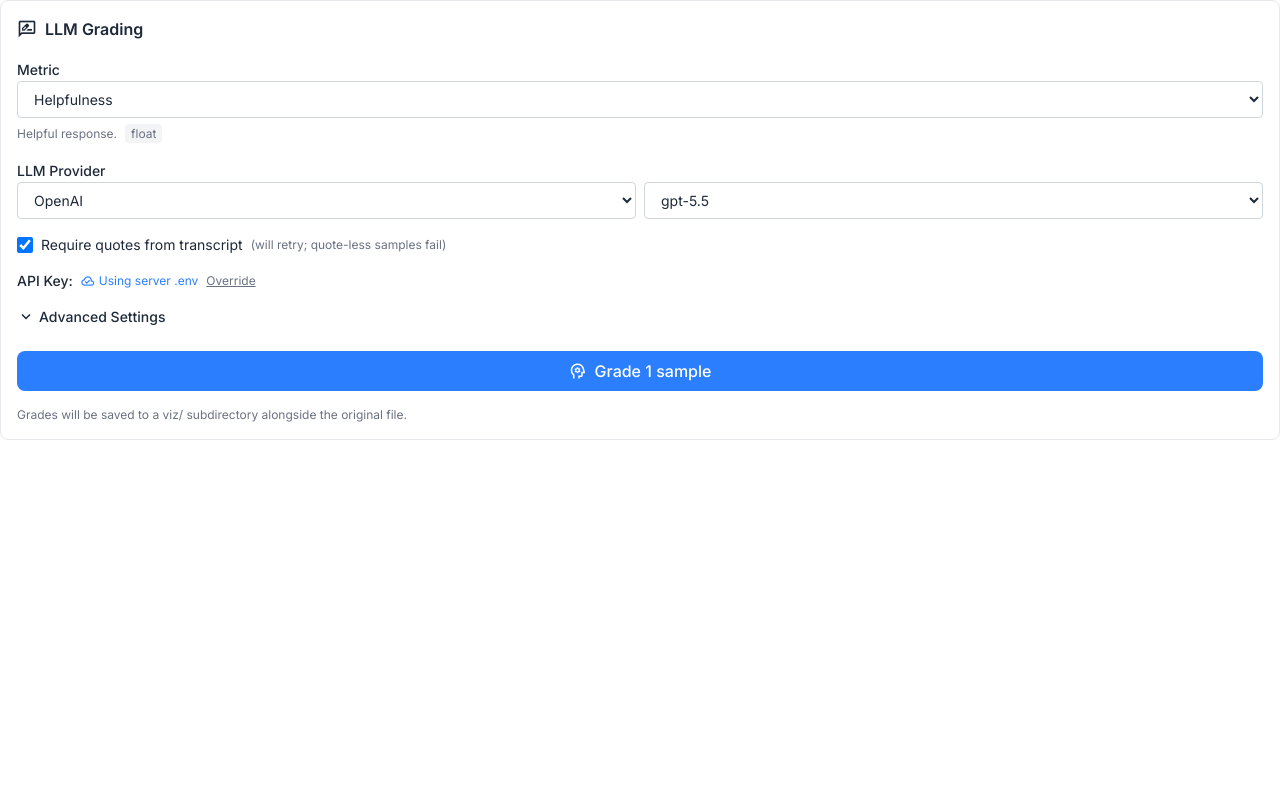
Test: GradingPanel › hides parallel/max-token fields until Advanced Settings is expanded
Expected: the field labelled "Max Output Tokens" is not shown
Expected: the field labelled "Parallel Requests" is not shown
Click the button "Advanced Settings" at (91, 317), box [17,307,166,327]
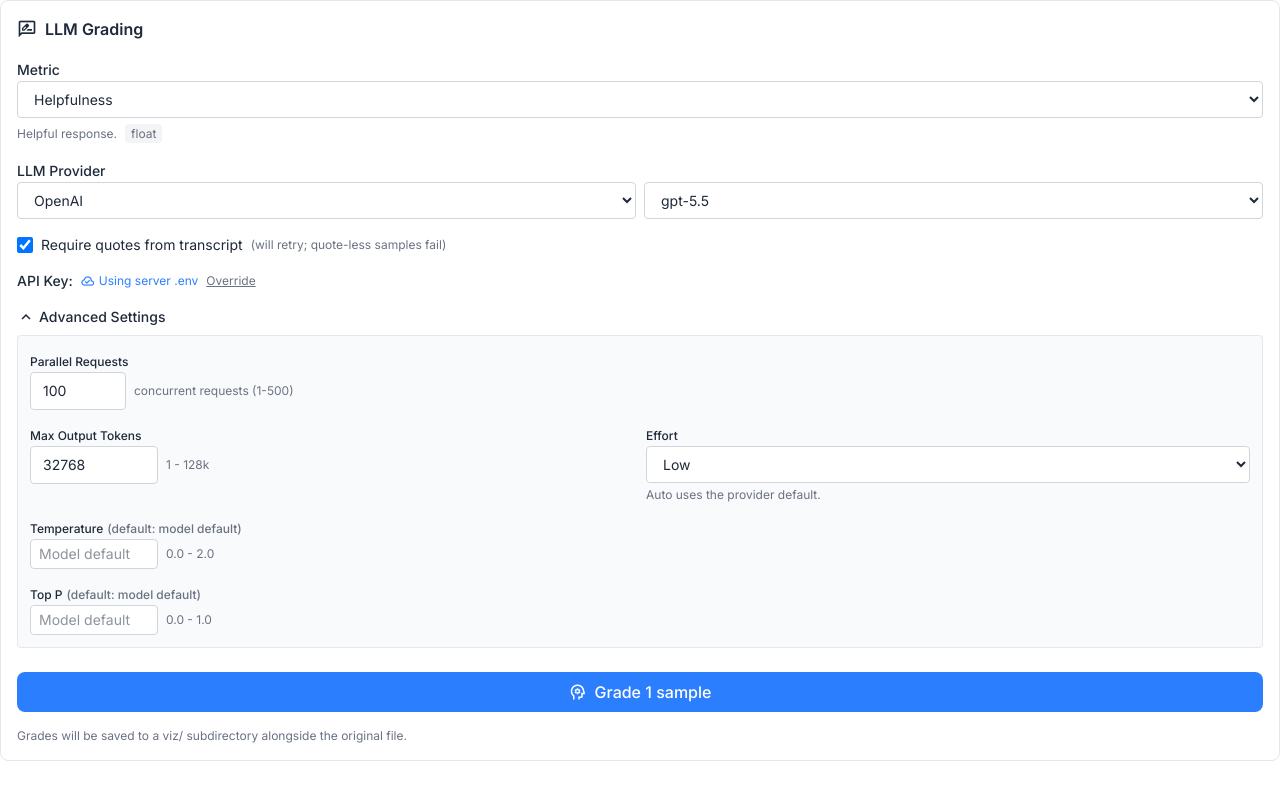
Expected: the number field labelled "Max Output Tokens" is shown, [30,446,158,484]
Expected: the number field labelled "Parallel Requests" is shown, [30,372,126,410]
Expected: the dropdown labelled "Effort" is shown, [646,446,1250,483]
